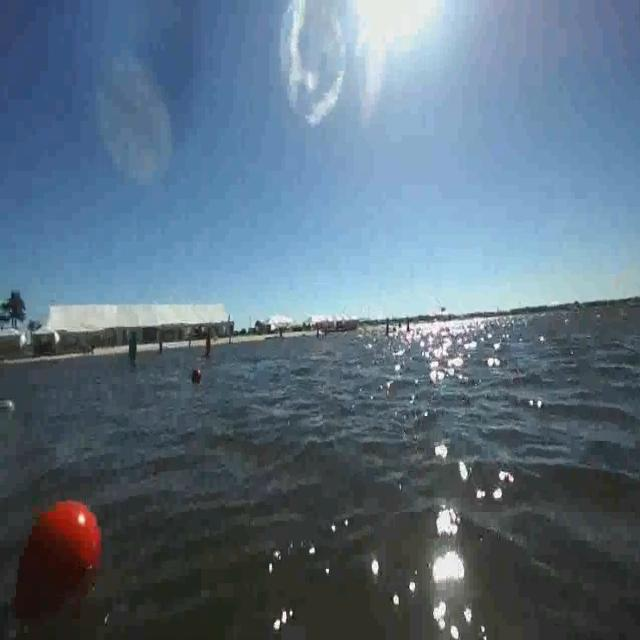green-column-buoy: (127, 329, 139, 374)
red-buoy: (17, 501, 102, 600), (193, 372, 201, 384)
